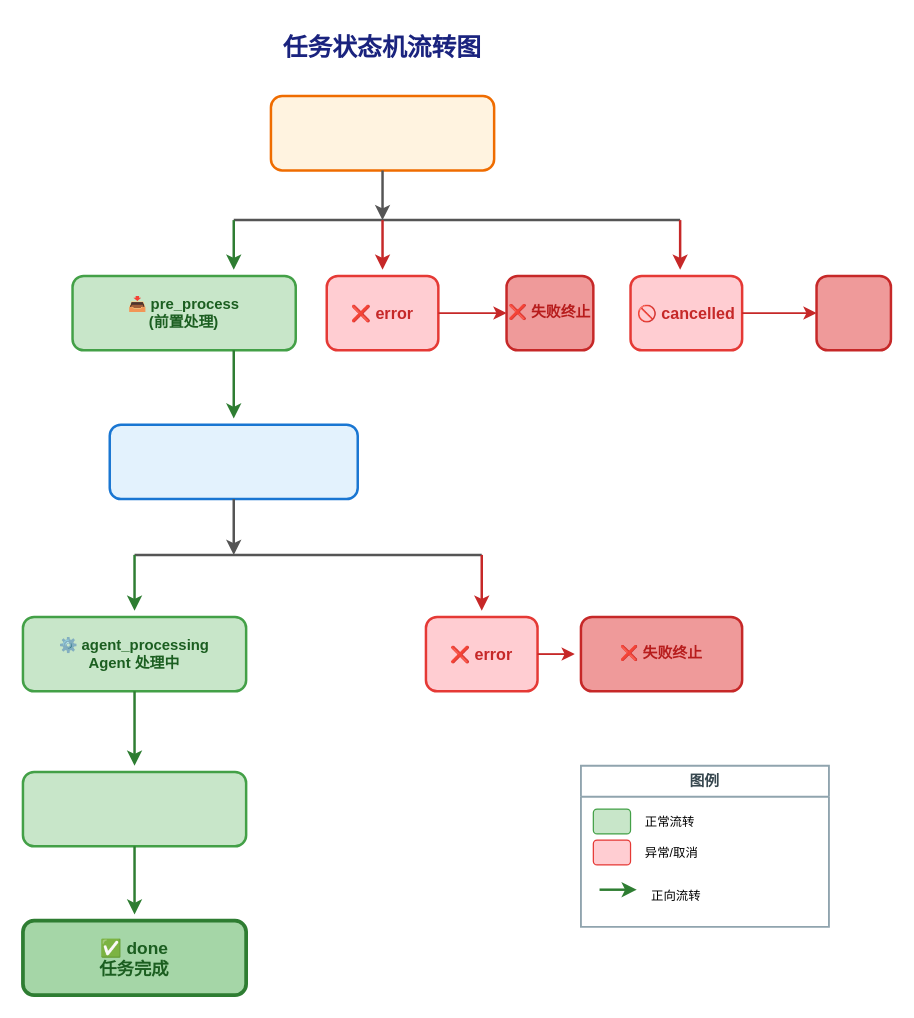
This 914x1018 diagram has some shape labels left out. Each missing label, with the centre of its shape:
"⏳ pending 用户提交任务" belongs at point 382,132.
"🎯 dispatching Dispatcher 选择 Agent 方案" belongs at point 233,461.
"📤 post_process (后置处理)" belongs at point 134,808.
"🚫 已取消" belongs at point 853,312.
